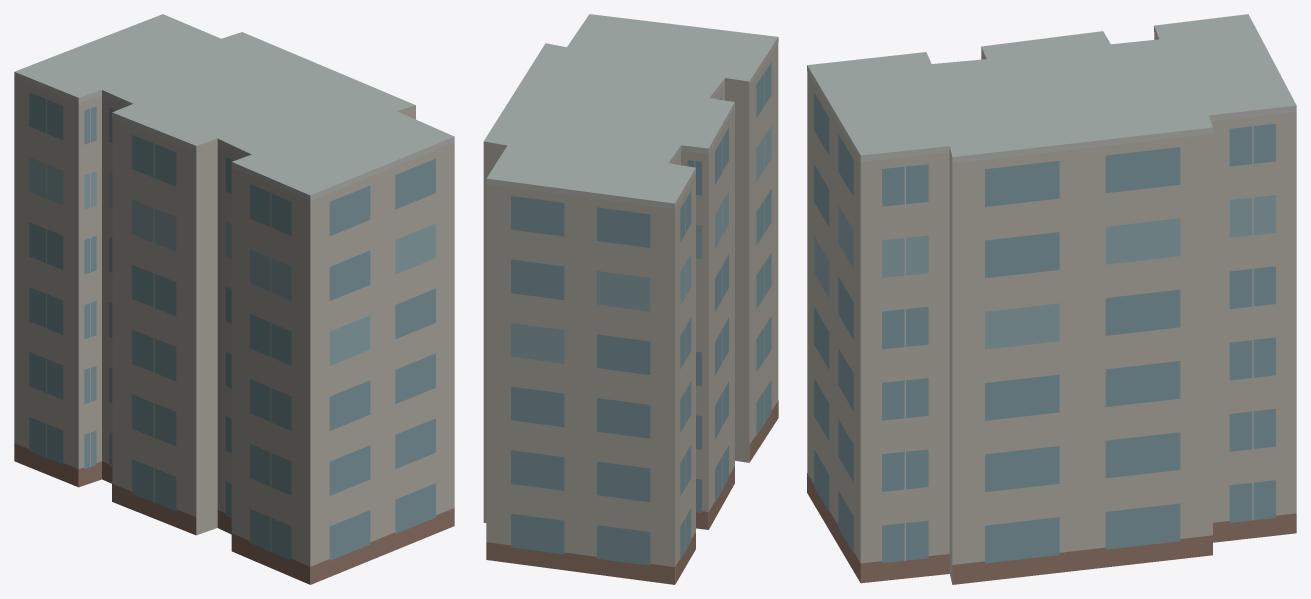
File: survey-upis-32570177.glb
The picture shows the model from 3 angles, left to right: view 1: azimuth 30°, elevation 25°; view 2: azimuth 150°, elevation 25°; view 3: azimuth 270°, elevation 25°; orthographic projection. The views are drawn at different scales.
Parts seen in each view (by area): view 1: survey-upis-32570177.tmp; view 2: survey-upis-32570177.tmp; view 3: survey-upis-32570177.tmp.
Boxes of the visible parts, x1,y1,x2,y2 form: survey-upis-32570177.tmp: [14, 14, 454, 584]; survey-upis-32570177.tmp: [483, 14, 778, 584]; survey-upis-32570177.tmp: [807, 14, 1296, 584].
Bounding box in the file's own units: 11.99 × 16.7 × 17.33.
